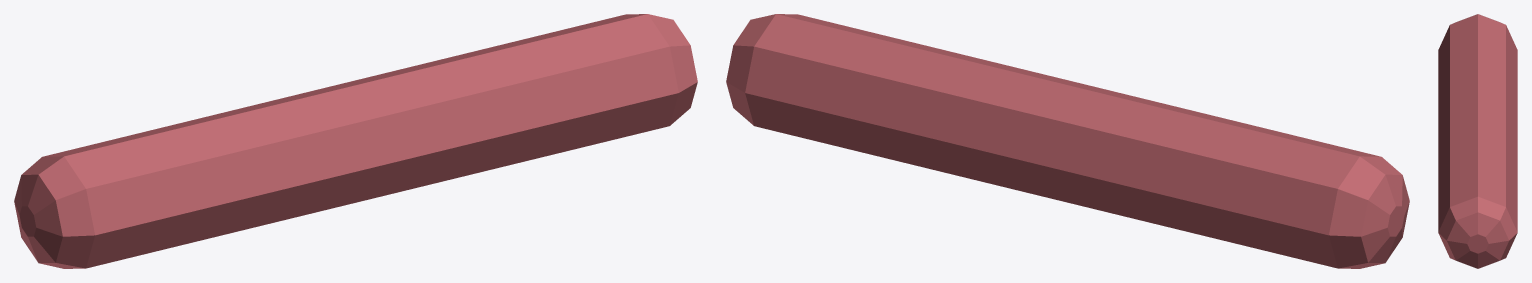
The model's file is meat.glb.
3 views of the same model, side by side, from view 1: azimuth 30°, elevation 25°; view 2: azimuth 150°, elevation 25°; view 3: azimuth 270°, elevation 25° (orthographic). The views are drawn at different scales.
Parts seen in each view (by area): view 1: Hotdog_Cube.002; view 2: Hotdog_Cube.002; view 3: Hotdog_Cube.002.
Part boxes in pixels (left/top/right/bottom): Hotdog_Cube.002: left=14, top=14, right=697, bottom=268; Hotdog_Cube.002: left=726, top=14, right=1409, bottom=268; Hotdog_Cube.002: left=1438, top=14, right=1517, bottom=268.
Size of the model in its own units: 1 by 0.1643 by 0.1643.
